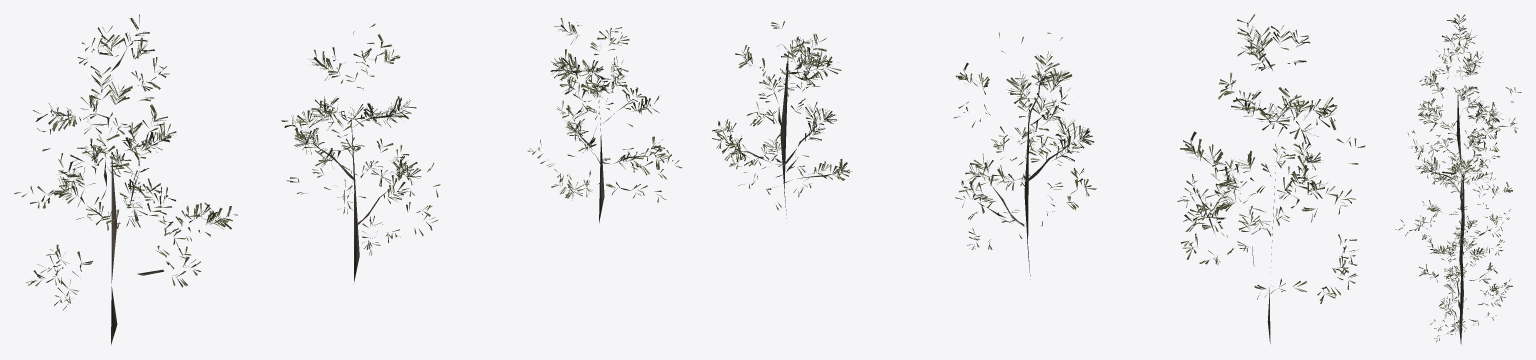
File: pine_sapling_small_far.glb
3 renders of one model, left to right at view 1: azimuth 30°, elevation 25°; view 2: azimuth 150°, elevation 25°; view 3: azimuth 270°, elevation 25°, orthographic. The views are drawn at different scales.
Parts seen in each view (by area): view 1: pine_sapling_small_a, pine_sapling_small_b, pine_sapling_small_c; view 2: pine_sapling_small_a, pine_sapling_small_b, pine_sapling_small_c; view 3: pine_sapling_small_a, pine_sapling_small_b, pine_sapling_small_c.
Part boxes in pixels (box(x1,y1,x2,y2)): pine_sapling_small_a: box(14, 14, 237, 344); pine_sapling_small_b: box(281, 23, 440, 282); pine_sapling_small_c: box(527, 18, 682, 222); pine_sapling_small_a: box(1177, 14, 1365, 343); pine_sapling_small_b: box(953, 32, 1096, 279); pine_sapling_small_c: box(712, 21, 852, 218); pine_sapling_small_a: box(1407, 14, 1521, 204); pine_sapling_small_b: box(1395, 130, 1512, 271); pine_sapling_small_c: box(1419, 220, 1512, 344).
Size of the model in its own units: 2.61 by 1.27 by 0.7677.
2 materials, 2 textured.
